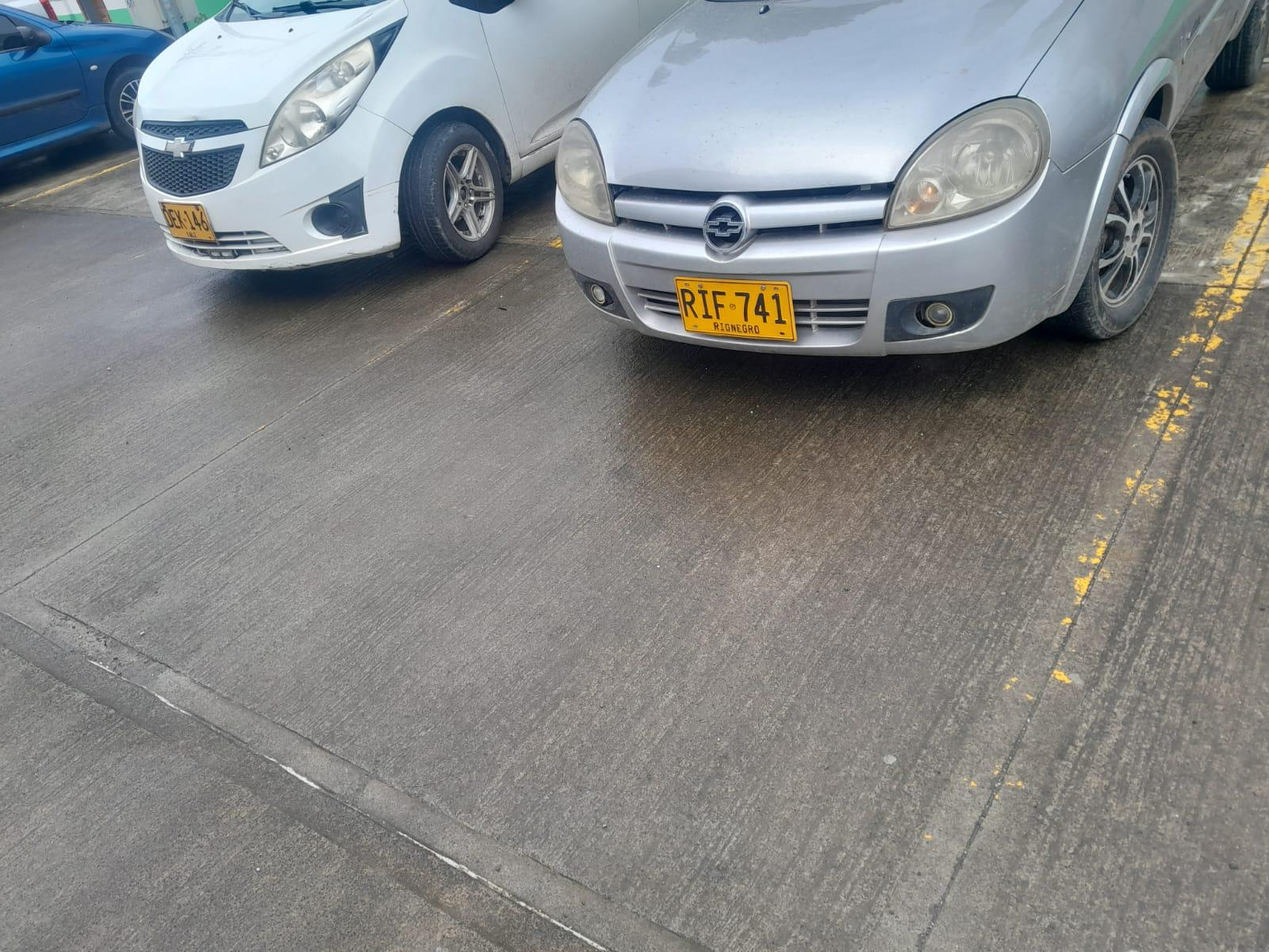placa: (669, 278, 795, 341), (160, 202, 216, 241)
